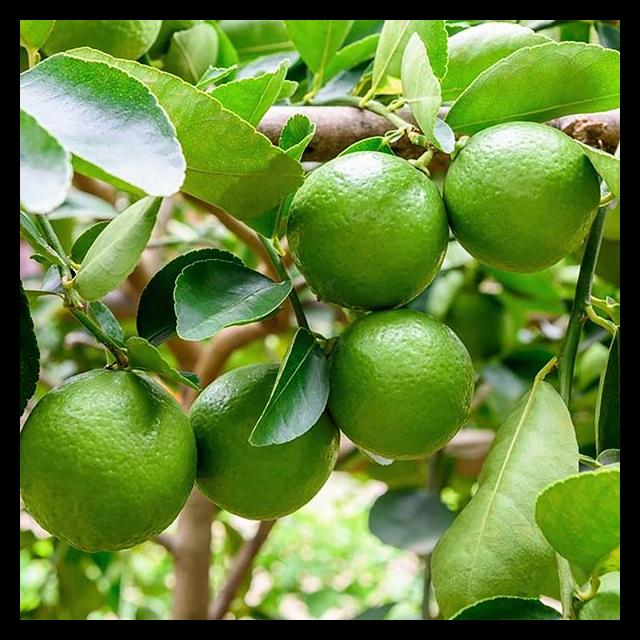lime: (20, 370, 198, 556), (189, 330, 340, 524), (280, 149, 450, 313), (443, 122, 604, 277), (330, 310, 476, 463)
